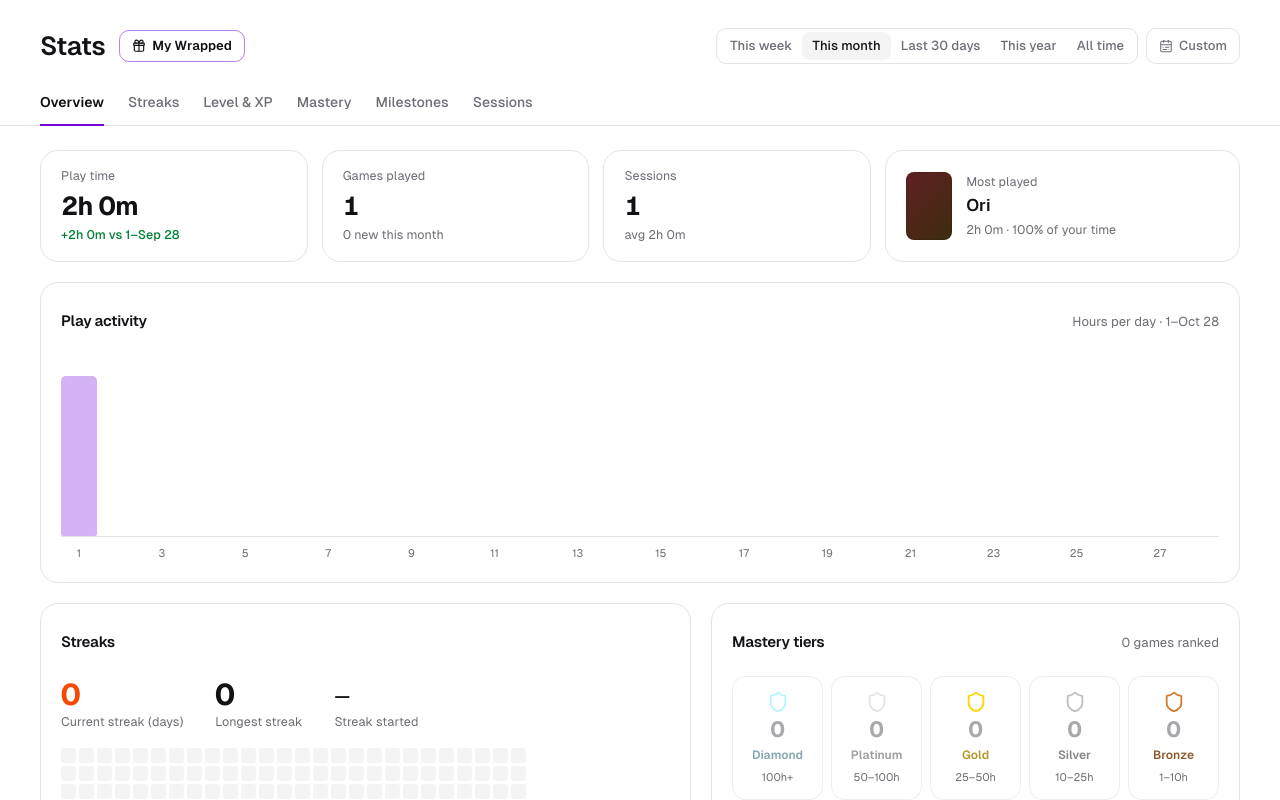
Scenario: v1 Stats page › totals the current month, and the whole library for All time
Expected: the element with test id "stats-summary" is shown, [40,150,1240,262]
Expected: the element with test id "stats-summary" shows "2h 0m", [61,191,138,221]
Click the radio button labelled "All time". click: (1100, 46)
box: [1067,32,1134,60]
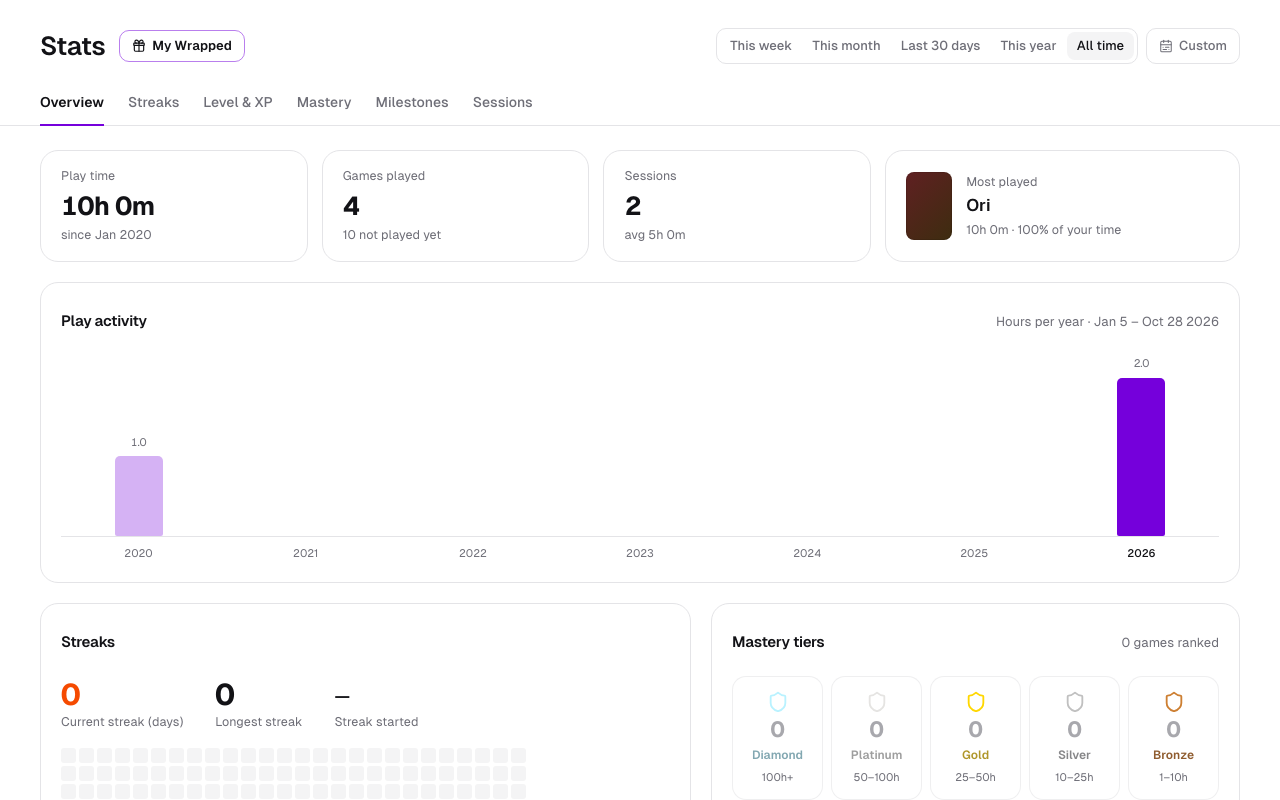
Expected: the element with test id "stats-summary" shows "10h 0m", [61,191,155,221]
